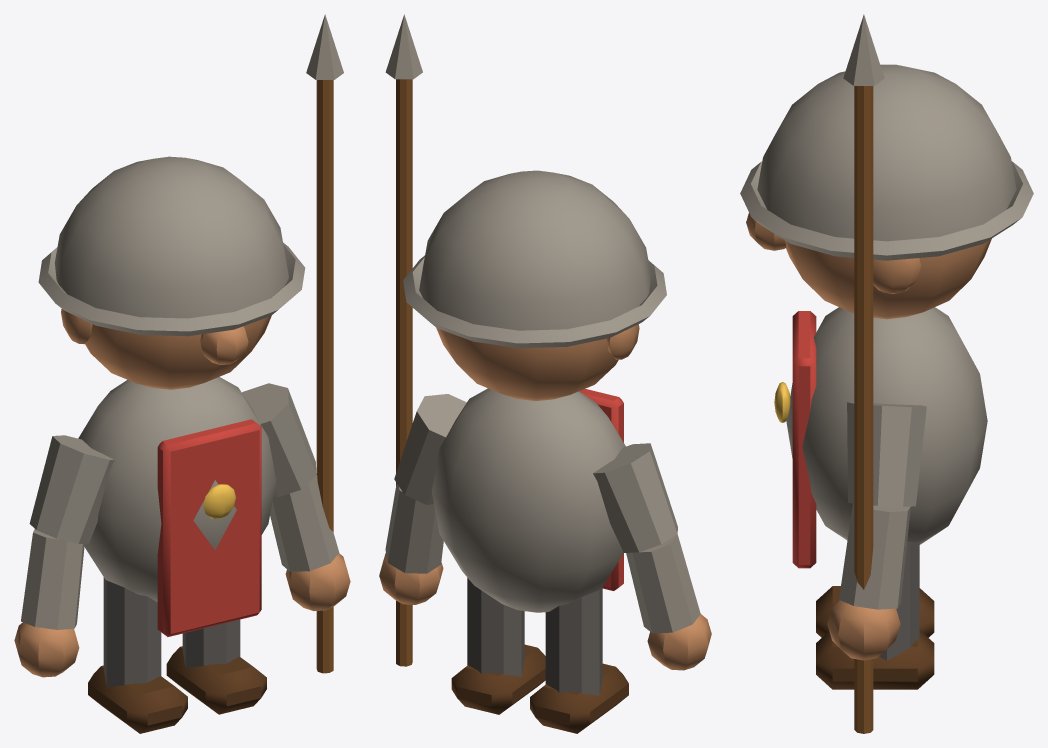
Rendered from CH_Cust_10_Muhafiz.fbx.
The picture shows the model from 3 angles, left to right: view 1: azimuth 30°, elevation 25°; view 2: azimuth 150°, elevation 25°; view 3: azimuth 270°, elevation 25°; orthographic projection. The views are drawn at different scales.
Visible parts, largest first — view 1: CH_Cust_10_Muhafiz; view 2: CH_Cust_10_Muhafiz; view 3: CH_Cust_10_Muhafiz.
Boxes of the visible parts, x1=… form: CH_Cust_10_Muhafiz: x1=14, y1=14, x2=350, y2=733; CH_Cust_10_Muhafiz: x1=379, y1=14, x2=711, y2=733; CH_Cust_10_Muhafiz: x1=740, y1=14, x2=1033, y2=733.
Bounding box in the file's own units: 0.7012 × 1.34 × 0.496.
Materials: 1 (1 with a texture image).
